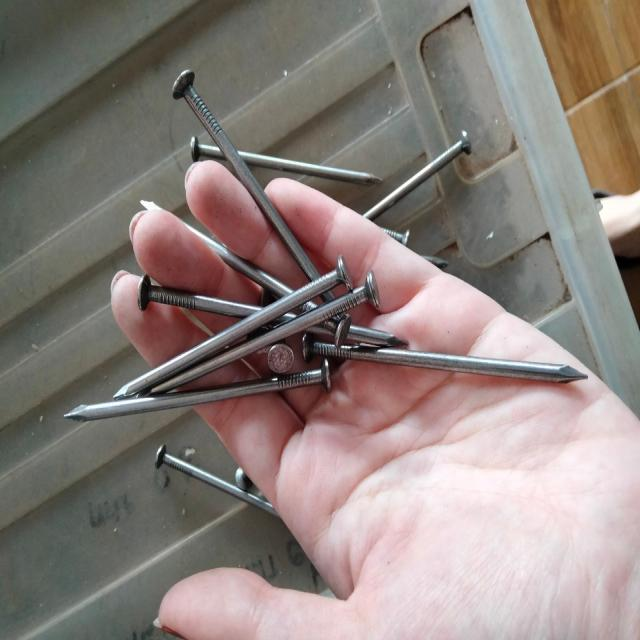3x10 nail: (166, 58, 399, 328), (262, 324, 604, 394), (56, 361, 358, 423)
